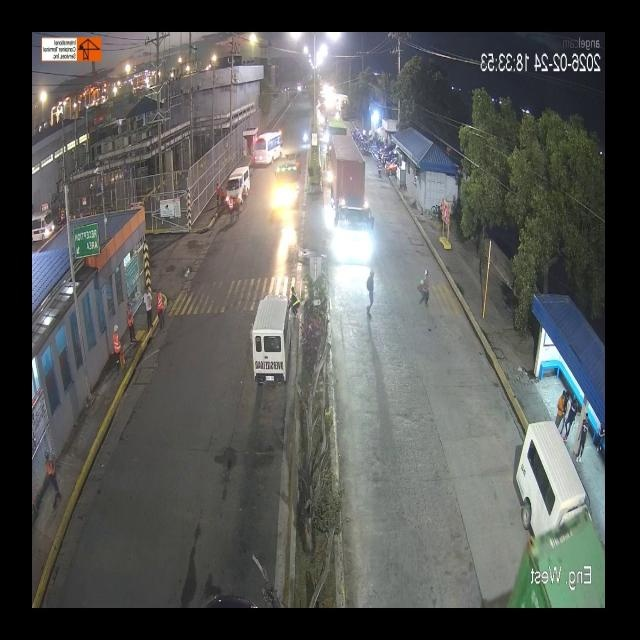bus: (254, 131, 281, 168)
car: (514, 431, 594, 532), (245, 281, 297, 385), (226, 164, 250, 197)
truck: (323, 139, 369, 273)
